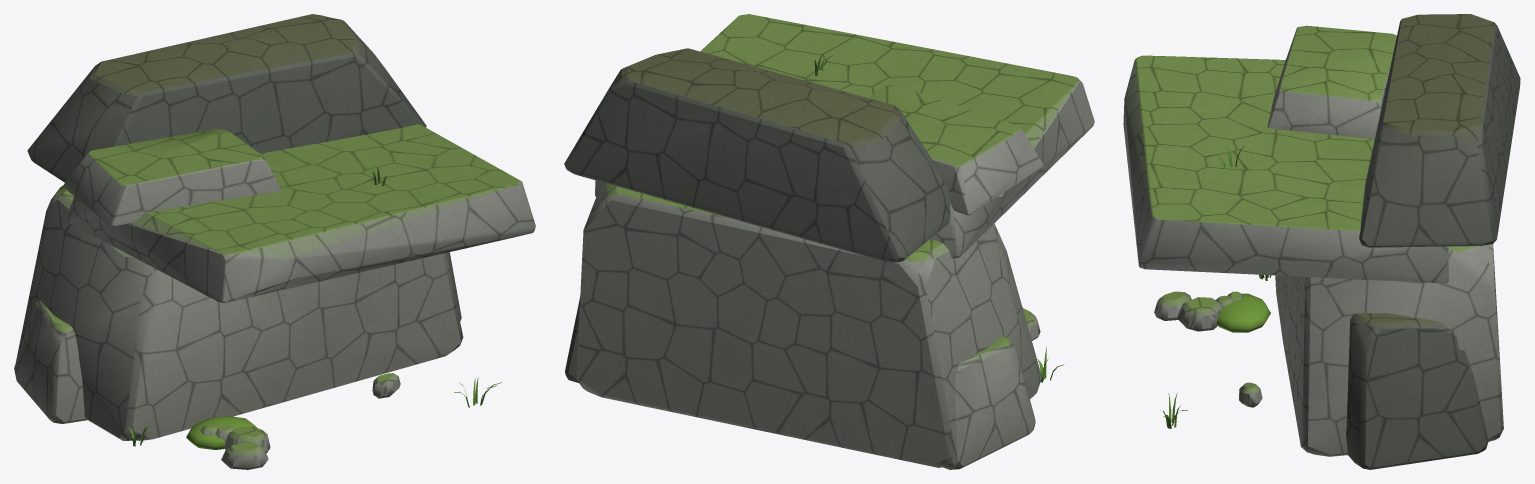
The model's file is rock_shelf.glb.
The picture shows the model from 3 angles, left to right: view 1: azimuth 30°, elevation 25°; view 2: azimuth 150°, elevation 25°; view 3: azimuth 270°, elevation 25°; orthographic projection. The views are drawn at different scales.
Parts seen in each view (by area): view 1: rock_shelf; view 2: rock_shelf; view 3: rock_shelf.
Part boxes in pixels (bbox=[...]): rock_shelf: bbox=[14, 14, 535, 469]; rock_shelf: bbox=[564, 14, 1094, 469]; rock_shelf: bbox=[1123, 14, 1520, 469].
Bounding box in the file's own units: 5.64 × 3.99 × 4.55.
4 materials, 4 textured.
